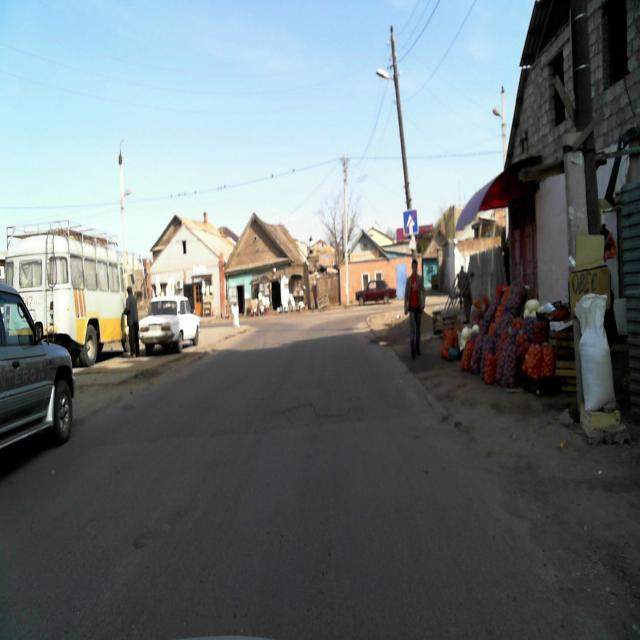road sign: (403, 209, 417, 235)
